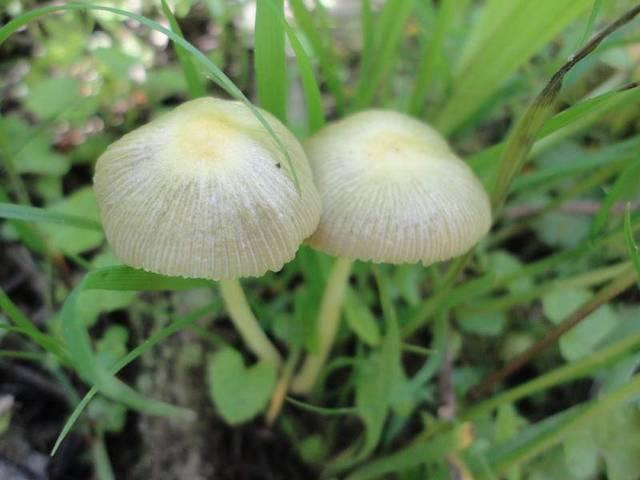edible_mushroom: (86, 89, 339, 287), (300, 107, 492, 266)
